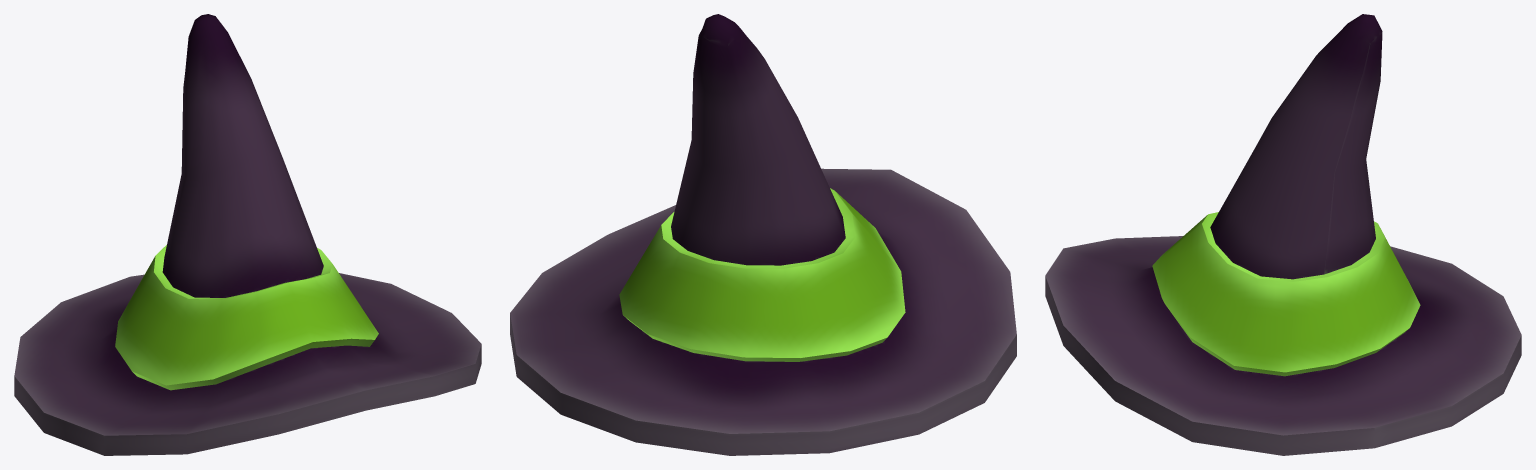
File: Witch.glb
The picture shows the model from 3 angles, left to right: view 1: azimuth 30°, elevation 25°; view 2: azimuth 150°, elevation 25°; view 3: azimuth 270°, elevation 25°; orthographic projection. The views are drawn at different scales.
Visible parts, largest first — view 1: m_WitchHat01; view 2: m_WitchHat01; view 3: m_WitchHat01.
Boxes of the visible parts, x1,y1,x2,y2 form: m_WitchHat01: [14, 14, 481, 455]; m_WitchHat01: [510, 14, 1016, 455]; m_WitchHat01: [1045, 14, 1521, 455].
Bounding box in the file's own units: 1.04 × 0.8229 × 1.04.
1 material, 1 textured.
